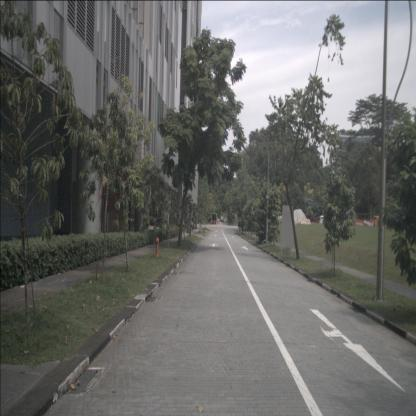vehicle-car: (220, 215, 224, 222)
vehicle-truck: (212, 214, 216, 224)
